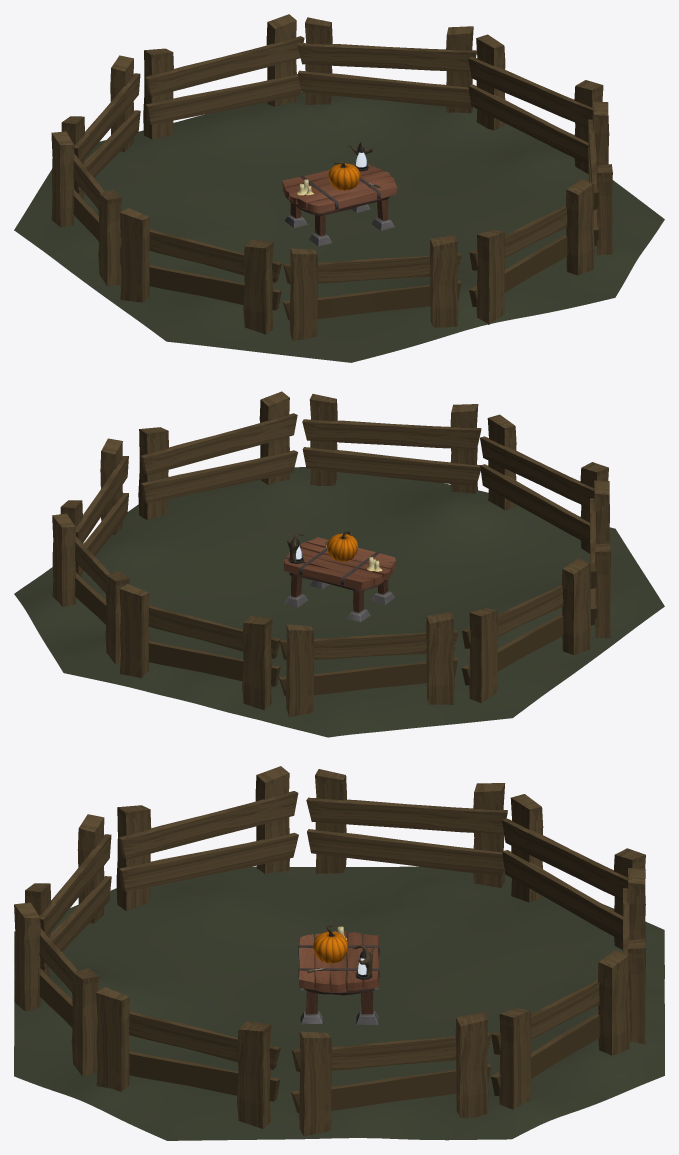
File: KabakSahne.fbx
The picture shows the model from 3 angles, top to bottom: view 1: azimuth 30°, elevation 25°; view 2: azimuth 150°, elevation 25°; view 3: azimuth 270°, elevation 25°; orthographic projection. The views are drawn at different scales.
Parts seen in each view (by area): view 1: Plane, Cube.005, Cube.009, Cube.004, Cube.001, Cube.006, Cube.008, Cube.003, Tahta5, Cube.002, Cube.007, KabakDis; view 2: Plane, Cube.006, Cube.002, Cube.007, Cube.001, Cube.003, Cube.005, Cube.009, Tahta5, Cube.008, Cube.004, KabakDis; view 3: Plane, Cube.003, Cube.008, Cube.004, Cube.007, Cube.009, Cube.002, Cube.006, Cube.005, Tahta5, Cube.001, KabakDis.
Part boxes in pixels (left/top/right/bottom): Plane: left=14, top=91, right=664, bottom=362; Cube.005: left=282, top=234, right=461, bottom=340; Cube.009: left=297, top=17, right=476, bottom=113; Cube.004: left=120, top=208, right=281, bottom=334; Cube.001: left=143, top=14, right=304, bottom=139; Cube.006: left=469, top=178, right=594, bottom=324; Cube.008: left=468, top=34, right=603, bottom=173; Cube.003: left=51, top=131, right=121, bottom=286; Tahta5: left=282, top=164, right=397, bottom=246; Cube.002: left=61, top=55, right=140, bottom=199; Cube.007: left=588, top=101, right=612, bottom=255; KabakDis: left=328, top=163, right=360, bottom=190; Plane: left=14, top=467, right=664, bottom=737; Cube.006: left=302, top=394, right=481, bottom=493; Cube.002: left=279, top=611, right=458, bottom=716; Cube.007: left=138, top=391, right=297, bottom=519; Cube.001: left=119, top=584, right=280, bottom=710; Cube.003: left=461, top=558, right=590, bottom=703; Cube.005: left=480, top=414, right=608, bottom=553; Cube.009: left=52, top=513, right=129, bottom=664; Tahta5: left=284, top=537, right=396, bottom=621; Cube.008: left=60, top=438, right=128, bottom=577; Cube.004: left=589, top=480, right=610, bottom=638; KabakDis: left=327, top=533, right=357, bottom=561; Plane: left=14, top=866, right=664, bottom=1140; Cube.003: left=306, top=769, right=507, bottom=887; Cube.008: left=291, top=1012, right=491, bottom=1136; Cube.004: left=116, top=766, right=298, bottom=910; Cube.007: left=96, top=987, right=280, bottom=1128; Cube.009: left=490, top=949, right=630, bottom=1109; Cube.002: left=502, top=794, right=645, bottom=949; Cube.006: left=14, top=902, right=99, bottom=1076; Cube.005: left=25, top=814, right=111, bottom=976; Tahta5: left=298, top=931, right=379, bottom=1024; Cube.001: left=623, top=868, right=645, bottom=1044; KabakDis: left=313, top=931, right=347, bottom=963.
Bounding box in the file's own units: 1189 × 210 × 1187.
